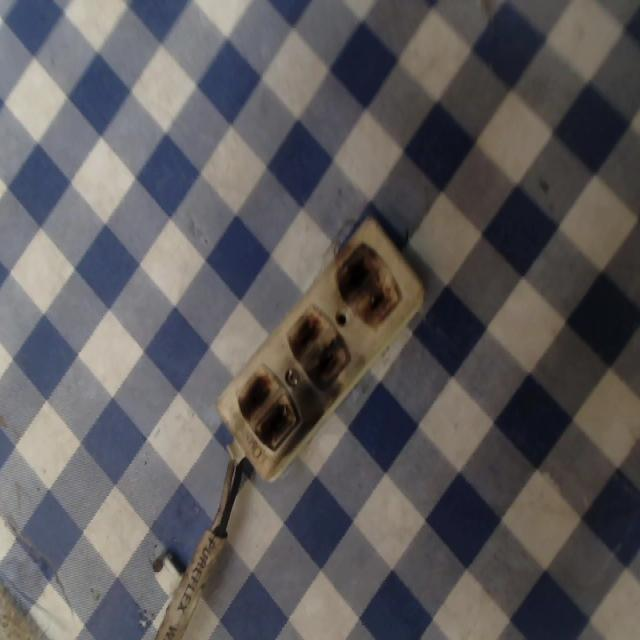-: (233, 360, 302, 456), (285, 293, 350, 392), (333, 239, 404, 328)
